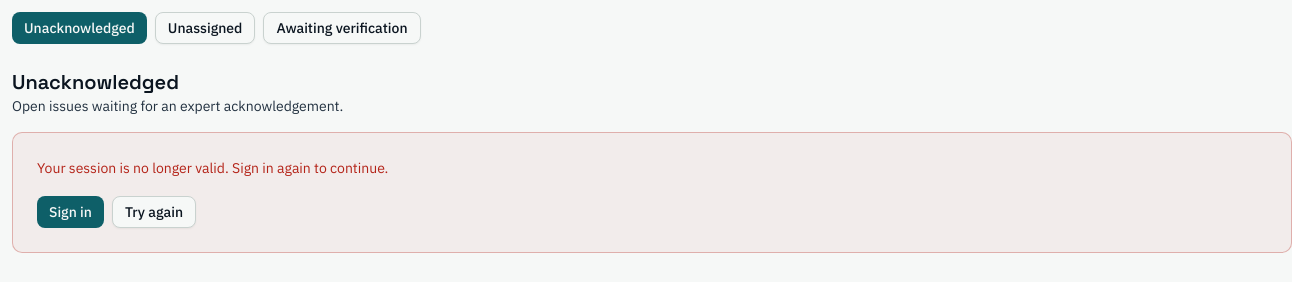
Test: AttentionQueue › 401 offers sign-in and retry can recover
Click the button "Try again" at [154, 212], box [112,196,196,228]
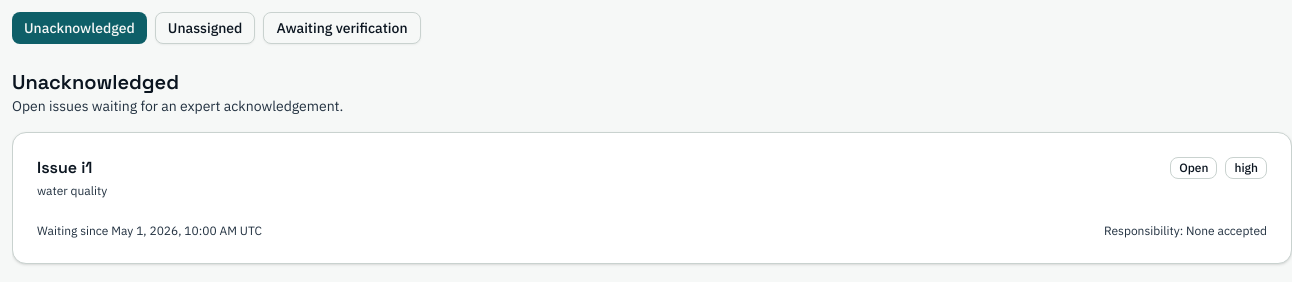
Now the link "Issue i1" is shown, box [37,157,92,178]
